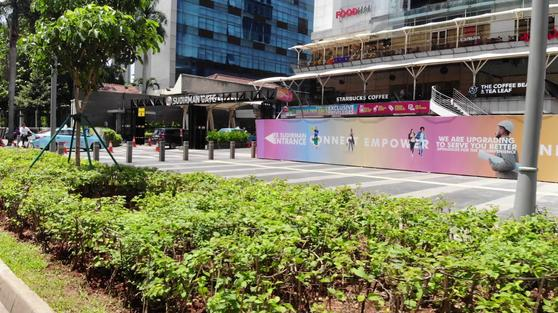bike: (15, 131, 36, 151)
